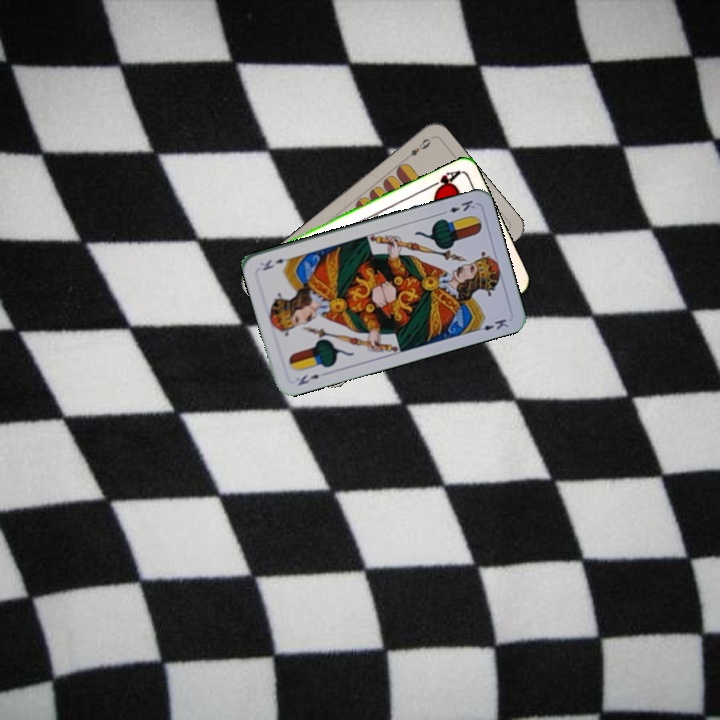E9: (406, 134, 434, 159)
EK: (437, 196, 478, 217), (294, 370, 322, 388)
HA: (424, 166, 463, 195)
